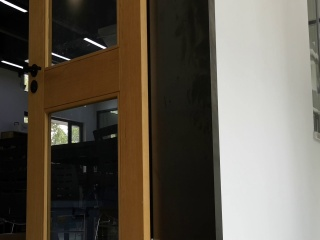room: (1, 2, 227, 240)
